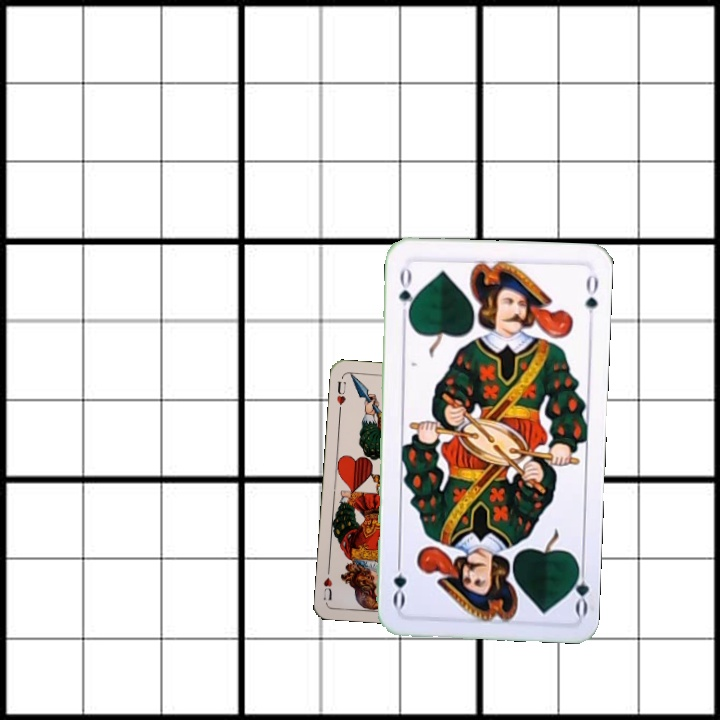GO: (564, 558, 592, 617), (394, 261, 417, 320)
HU: (333, 377, 348, 415)
